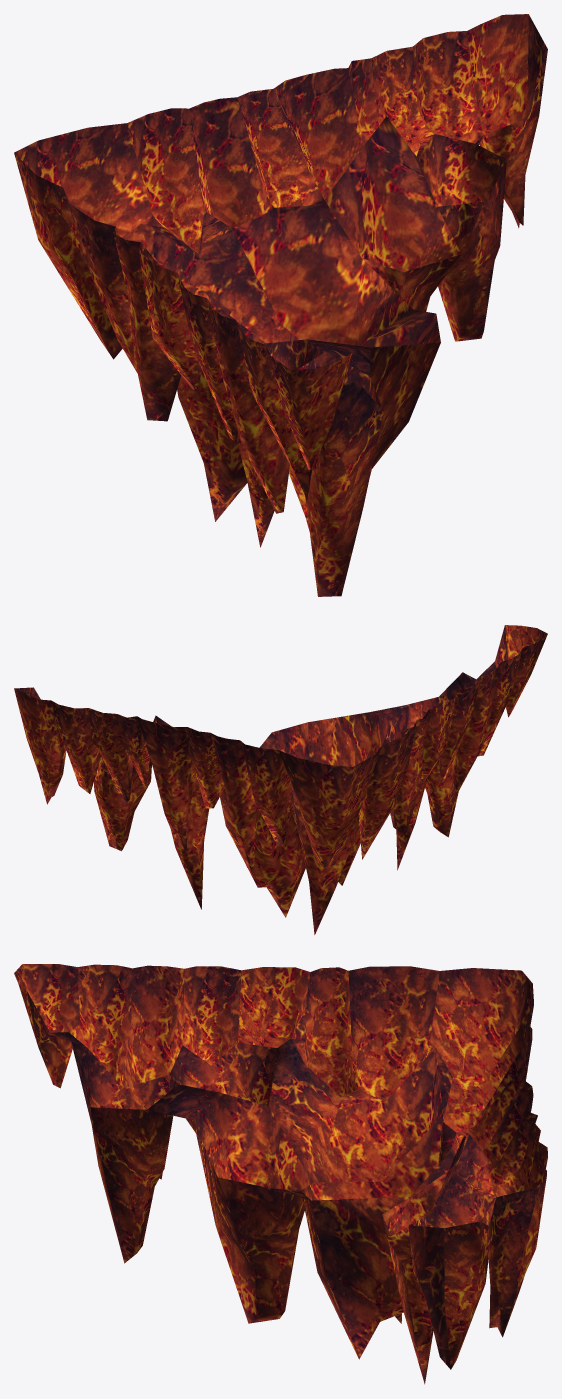
Rendered from Scene_rongyan_017.FBX.
The picture shows the model from 3 angles, top to bottom: view 1: azimuth 30°, elevation 25°; view 2: azimuth 150°, elevation 25°; view 3: azimuth 270°, elevation 25°; orthographic projection. The views are drawn at different scales.
Visible parts, largest first — view 1: Scene_rongyan_017; view 2: Scene_rongyan_017; view 3: Scene_rongyan_017.
Part boxes in pixels (bbox=[...]): Scene_rongyan_017: bbox=[14, 14, 547, 596]; Scene_rongyan_017: bbox=[14, 625, 547, 934]; Scene_rongyan_017: bbox=[14, 964, 547, 1384].
Size of the model in its own units: 21.84 by 13.97 by 21.87.
